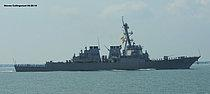MIL_Ship: (12, 15, 201, 70)
